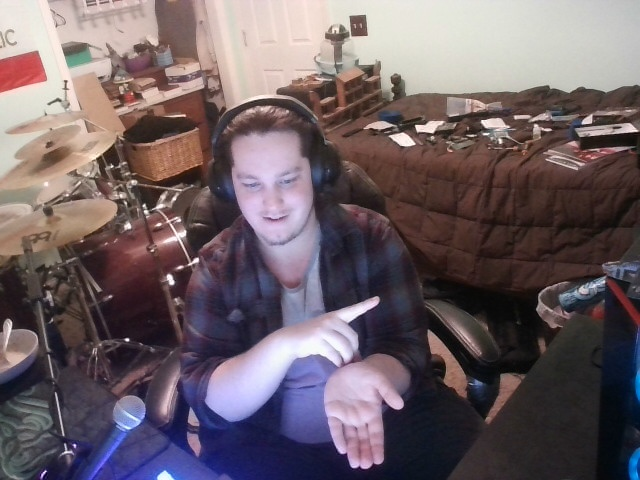doctor: (288, 292, 416, 480)
